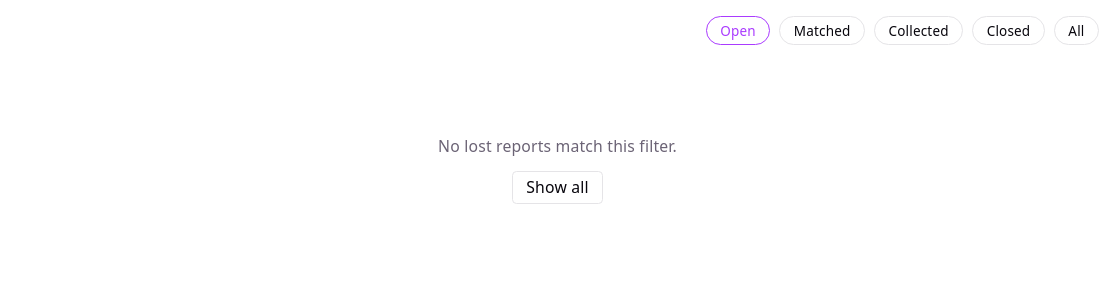
Test: <LostReportsOverview /> › shows the empty state and recovers via "Show all"
Expected: the text "No lost reports match this filter." is shown, [438,135,677,158]
Click the button "Show all": (558, 188) [512,171,603,204]
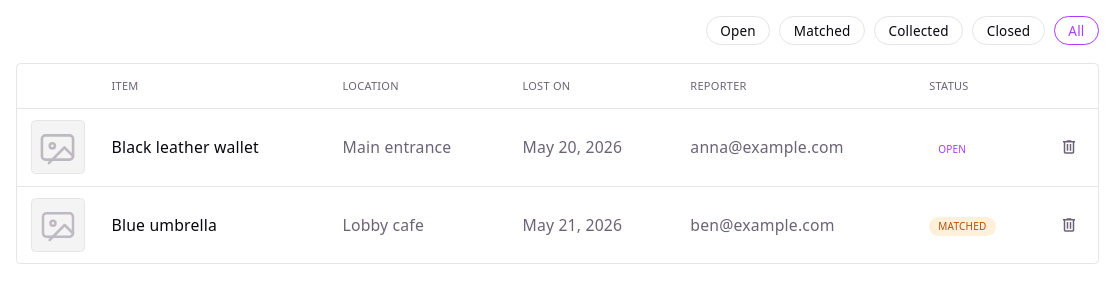
Result: the text "Black leather wallet" is shown at [112,136,259,158]
Result: the text "Blue umbrella" is shown at [112,214,217,236]
